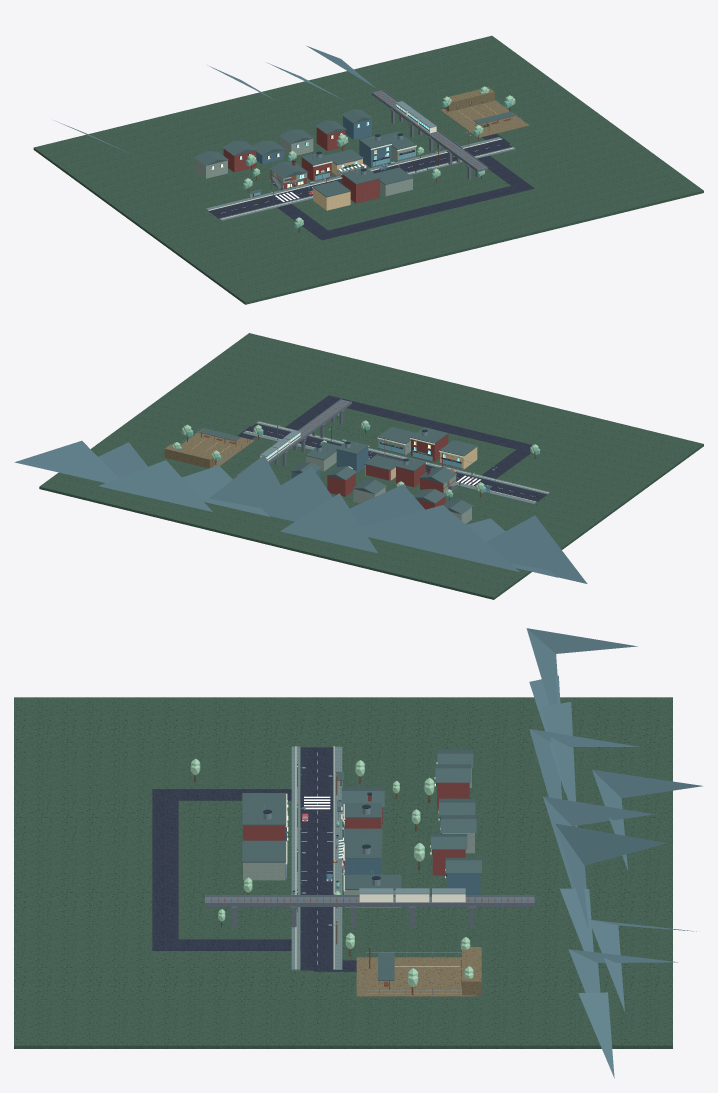
File: village.glb
The picture shows the model from 3 angles, top to bottom: view 1: azimuth 30°, elevation 25°; view 2: azimuth 150°, elevation 25°; view 3: azimuth 270°, elevation 25°; orthographic projection. The views are drawn at different scales.
Visible parts, largest first — view 1: village-batch-10, village-batch-25, village-batch-26, village-batch-08, village-batch-00, village-batch-04, village-batch-21, village-batch-22, village-batch-37, village-batch-06, village-batch-18, village-batch-11 (+4 smaller); view 2: village-batch-10, village-batch-11, village-batch-26, village-batch-25, village-batch-00, village-batch-08, village-batch-04, village-batch-21, village-batch-22, village-batch-06, village-batch-37, village-batch-18 (+1 smaller); view 3: village-batch-10, village-batch-11, village-batch-25, village-batch-26, village-batch-08, village-batch-04, village-batch-21, village-batch-00, village-batch-06, village-batch-18, village-batch-15, village-batch-37 (+2 smaller).
Boxes of the visible parts, x1,y1,x2,y2 form: village-batch-10: (33, 35, 703, 304); village-batch-25: (209, 133, 534, 240); village-batch-26: (194, 109, 515, 197); village-batch-08: (440, 87, 529, 137); village-batch-00: (223, 127, 379, 203); village-batch-04: (272, 89, 488, 199); village-batch-21: (206, 137, 515, 220); village-batch-22: (195, 137, 415, 196); village-batch-37: (256, 106, 429, 175); village-batch-06: (208, 103, 513, 219); village-batch-18: (212, 91, 524, 197); village-batch-11: (54, 46, 375, 154); village-batch-10: (39, 333, 703, 599); village-batch-11: (14, 440, 587, 583); village-batch-26: (199, 427, 491, 514); village-batch-25: (237, 395, 546, 501); village-batch-00: (327, 434, 448, 509); village-batch-08: (164, 428, 254, 468); village-batch-04: (236, 398, 463, 490); village-batch-21: (243, 421, 549, 504); village-batch-22: (306, 439, 471, 524); village-batch-06: (195, 422, 548, 501); village-batch-37: (267, 435, 369, 478); village-batch-18: (185, 400, 511, 492); village-batch-10: (14, 697, 672, 1048); village-batch-11: (526, 628, 702, 1078); village-batch-25: (152, 747, 356, 971); village-batch-26: (242, 749, 481, 980); village-batch-08: (356, 947, 481, 996); village-batch-04: (205, 802, 534, 928); village-batch-21: (291, 746, 342, 970); village-batch-00: (243, 782, 469, 875); village-batch-06: (285, 746, 465, 969); village-batch-18: (205, 767, 534, 994); village-batch-15: (191, 758, 473, 986); village-batch-37: (326, 838, 480, 894).
Size of the model in its own units: 122 by 11.01 by 83.78.
Materials: 39 (20 with a texture image).
